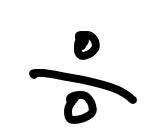div: (28, 29, 138, 121)
